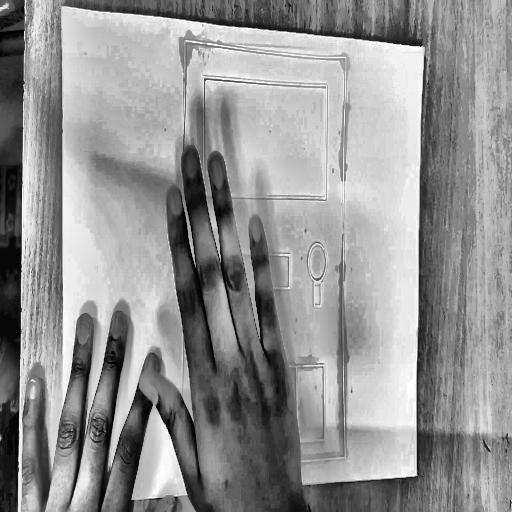bottom_left: (63, 487, 70, 499)
bottom_right: (414, 470, 420, 480)
door: (177, 36, 352, 481)
top_left: (59, 1, 65, 13)
top_right: (420, 40, 429, 55)
